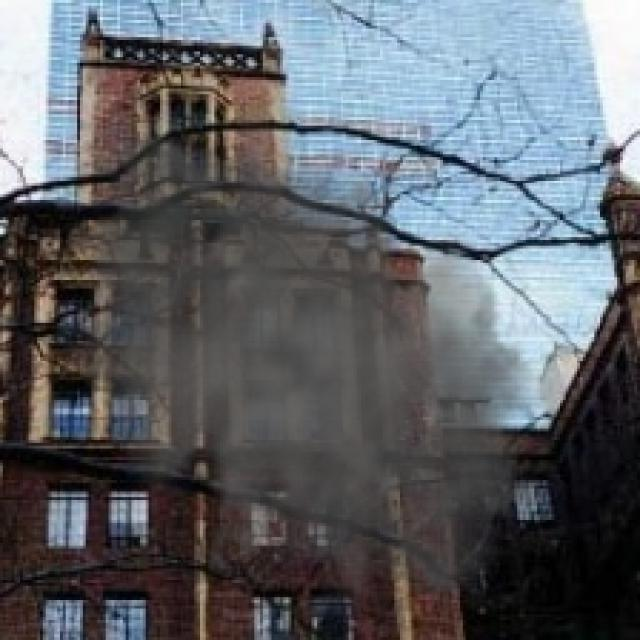smoke: (32, 94, 577, 637)
